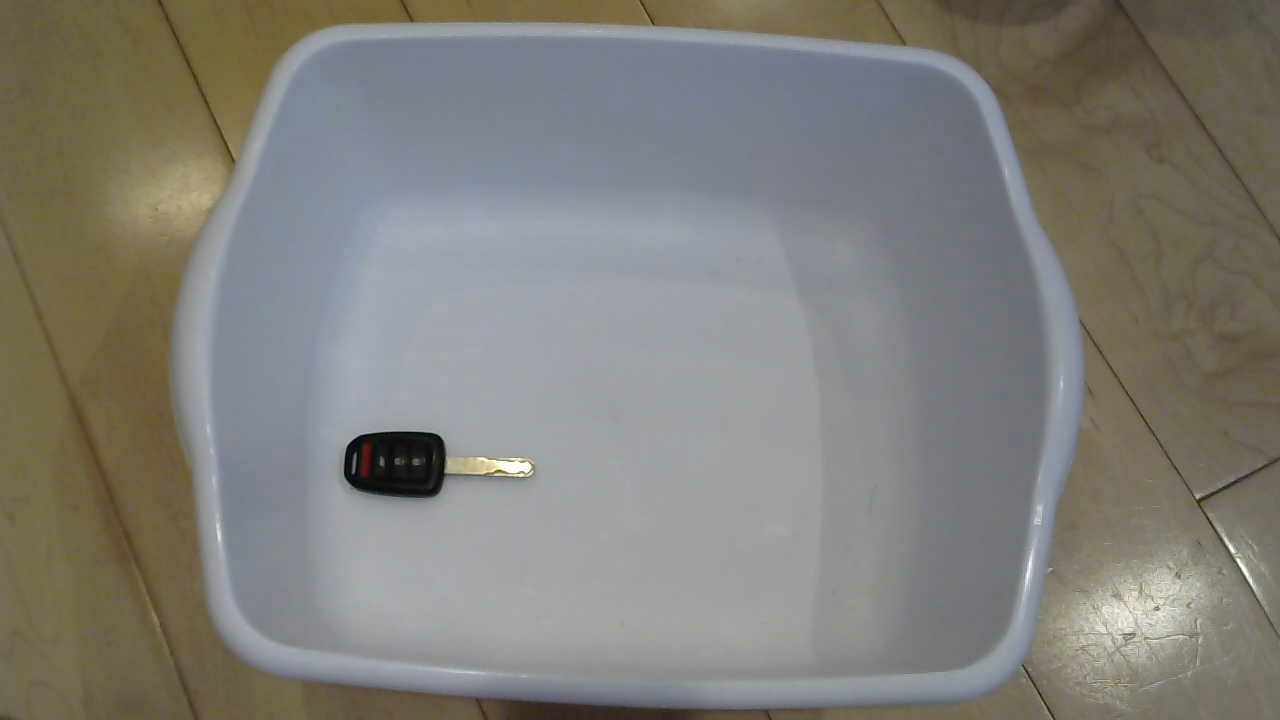key: (332, 418, 558, 514)
